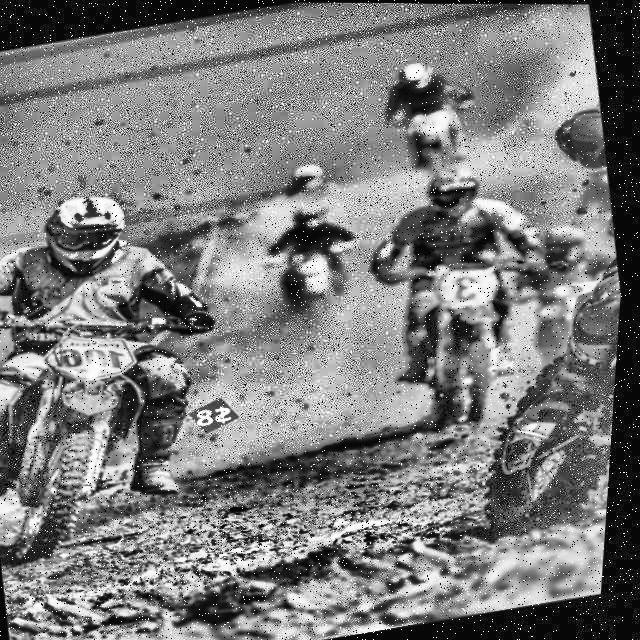Helmet: (27, 182, 146, 284), (419, 160, 493, 218)
